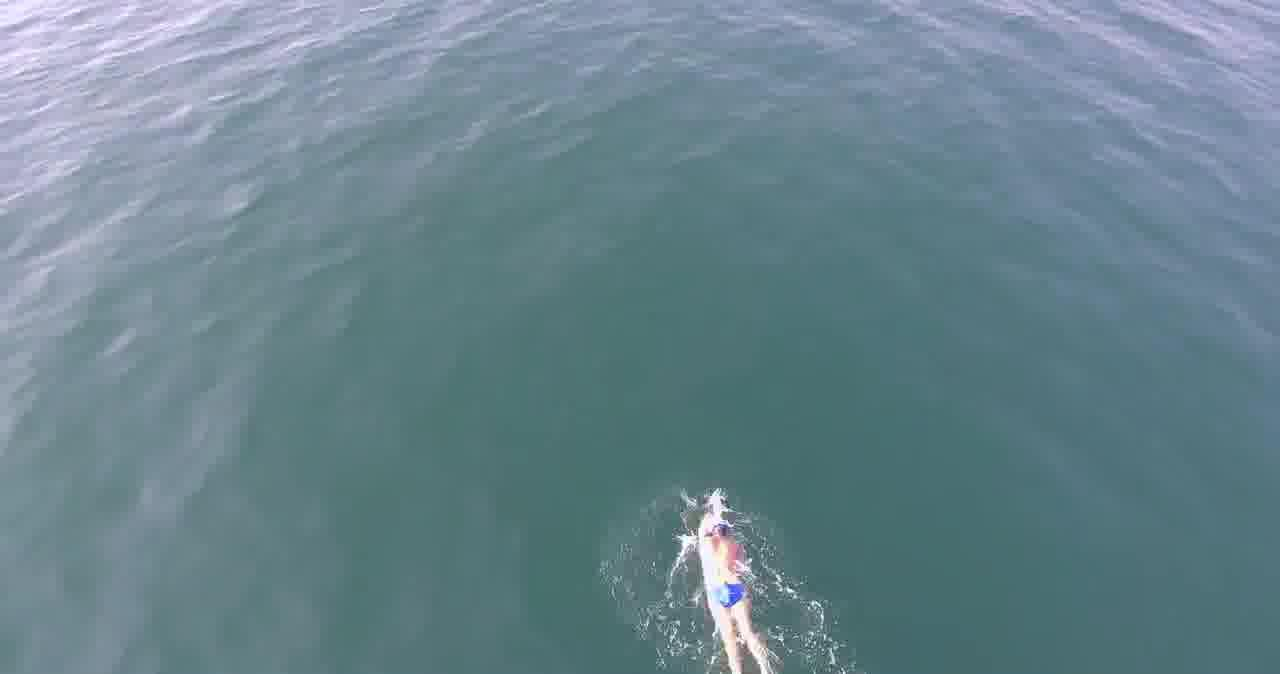swimmer: (679, 485, 774, 673)
